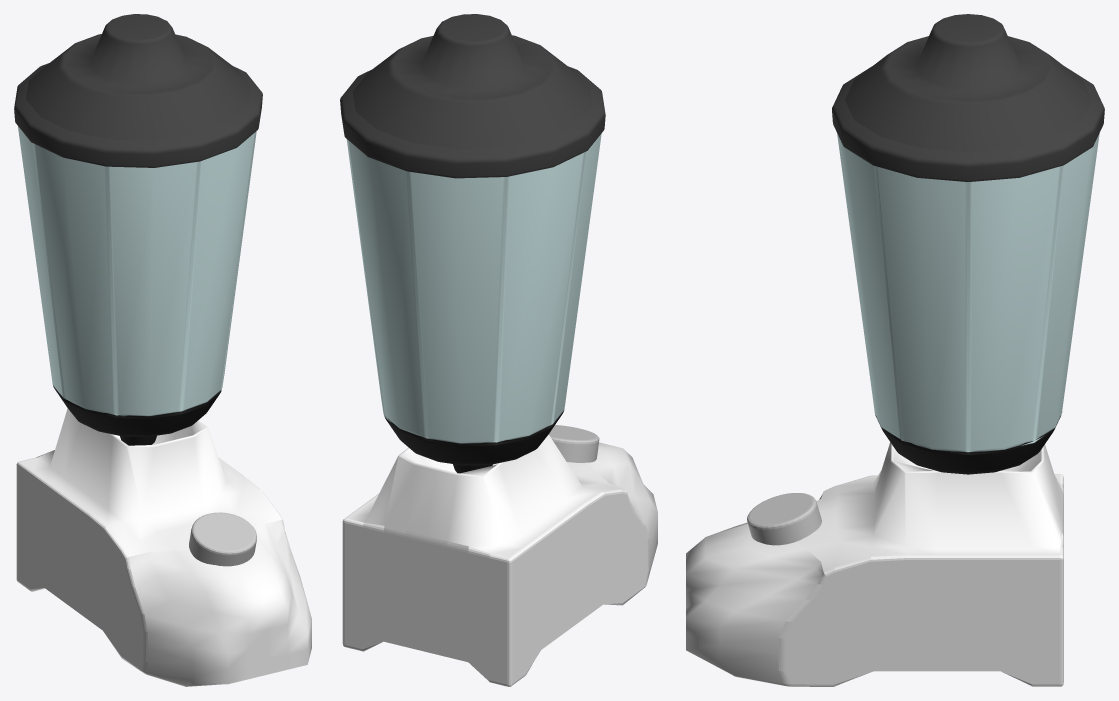
Rendered from blender.obj.
3 renders of one model, left to right at view 1: azimuth 30°, elevation 25°; view 2: azimuth 150°, elevation 25°; view 3: azimuth 270°, elevation 25°, orthographic. The views are drawn at different scales.
Parts seen in each view (by area): view 1: Box001, Line001, Cylinder001, Cylinder002; view 2: Line001, Box001, Cylinder001, Cylinder002; view 3: Box001, Line001, Cylinder001, Cylinder002.
Part boxes in pixels (left/top/right/bottom): Box001: left=16, top=408, right=311, bottom=686; Line001: left=18, top=126, right=256, bottom=445; Cylinder001: left=14, top=14, right=262, bottom=167; Cylinder002: left=189, top=512, right=256, bottom=566; Line001: left=346, top=133, right=601, bottom=473; Box001: left=342, top=434, right=657, bottom=686; Cylinder001: left=340, top=14, right=605, bottom=178; Cylinder002: left=549, top=425, right=599, bottom=462; Box001: left=686, top=442, right=1063, bottom=686; Line001: left=837, top=133, right=1099, bottom=474; Cylinder001: left=832, top=14, right=1104, bottom=181; Cylinder002: left=747, top=493, right=821, bottom=545.
Size of the model in its own units: 75.57 by 189 by 116.
